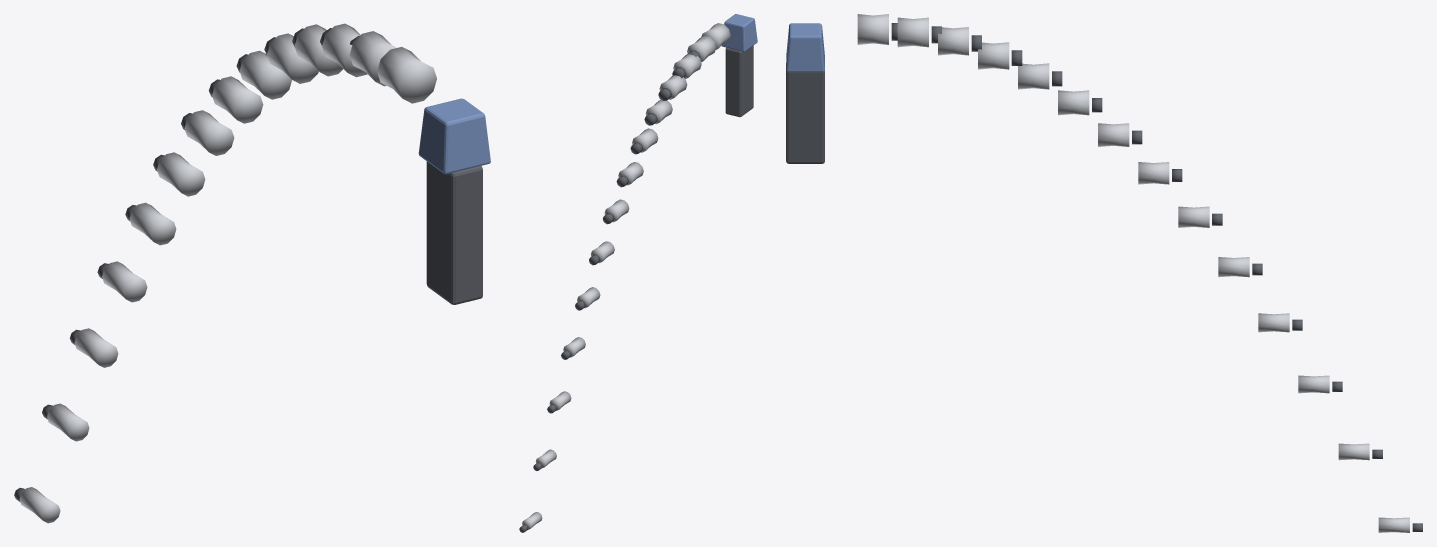
File: weapon_whip_live.glb
The picture shows the model from 3 angles, left to right: view 1: azimuth 30°, elevation 25°; view 2: azimuth 150°, elevation 25°; view 3: azimuth 270°, elevation 25°; orthographic projection. The views are drawn at different scales.
Parts seen in each view (by area): view 1: grip, emitter, whip_seg, whip_seg.005, whip_seg.006, whip_seg.007, whip_seg.004, whip_seg.008, whip_seg.001, whip_seg.003, whip_seg.009, whip_seg.002 (+4 smaller); view 2: grip, emitter, whip_seg.001, whip_seg, whip_seg.002, whip_seg.003, whip_seg.004, whip_seg.005, whip_seg.006, whip_seg.007, whip_seg.008; view 3: grip, emitter, whip_seg, whip_seg.001, whip_seg.002, whip_seg.003, whip_seg.004, whip_seg.005, whip_seg.006.
Boxes of the visible parts, box(x1,y1,x2,y2) form: grip: box(426, 161, 482, 304); emitter: box(418, 98, 490, 174); whip_seg: box(377, 47, 436, 103); whip_seg.005: box(239, 50, 291, 99); whip_seg.006: box(212, 76, 263, 123); whip_seg.007: box(184, 110, 234, 155); whip_seg.004: box(267, 33, 318, 83); whip_seg.008: box(157, 152, 205, 196); whip_seg.001: box(349, 31, 396, 86); whip_seg.003: box(294, 24, 342, 76); whip_seg.009: box(129, 202, 176, 245); whip_seg.002: box(322, 23, 367, 77); grip: box(725, 45, 753, 117); emitter: box(721, 14, 757, 51); whip_seg.001: box(687, 36, 716, 61); whip_seg: box(701, 23, 730, 49); whip_seg.002: box(673, 54, 701, 78); whip_seg.003: box(659, 75, 687, 99); whip_seg.004: box(645, 100, 672, 124); whip_seg.005: box(632, 128, 658, 152); whip_seg.006: box(618, 162, 643, 185); whip_seg.007: box(604, 199, 629, 222); whip_seg.008: box(590, 241, 614, 263); grip: box(786, 63, 824, 163); emitter: box(786, 23, 824, 72); whip_seg: box(857, 14, 888, 44); whip_seg.001: box(897, 17, 928, 47); whip_seg.002: box(938, 27, 968, 55); whip_seg.003: box(978, 42, 1009, 69); whip_seg.004: box(1018, 63, 1049, 89); whip_seg.005: box(1058, 90, 1089, 115); whip_seg.006: box(1098, 123, 1129, 146).
Bounding box in the file's own units: 0.5055 × 7.43 × 8.31.
